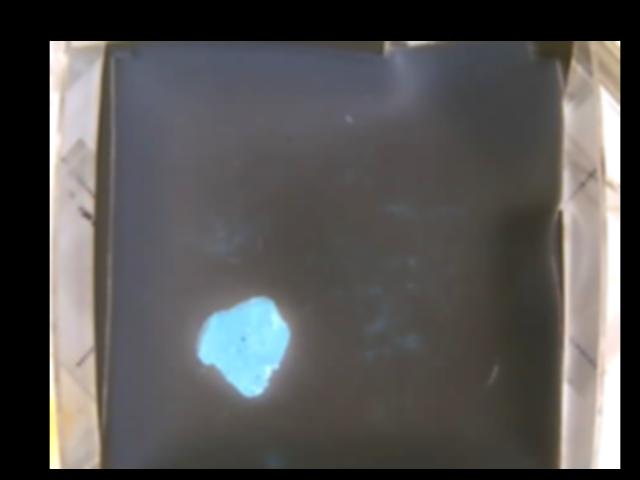Brisk: (195, 298, 288, 397)
